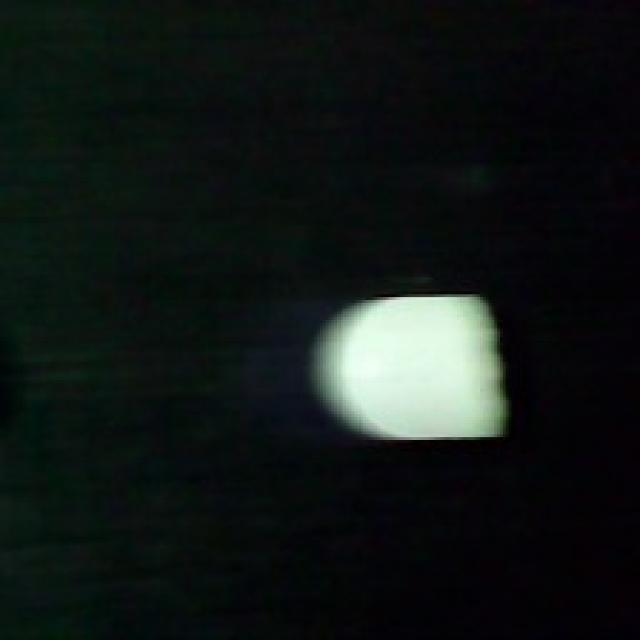defected: (311, 283, 509, 446)
